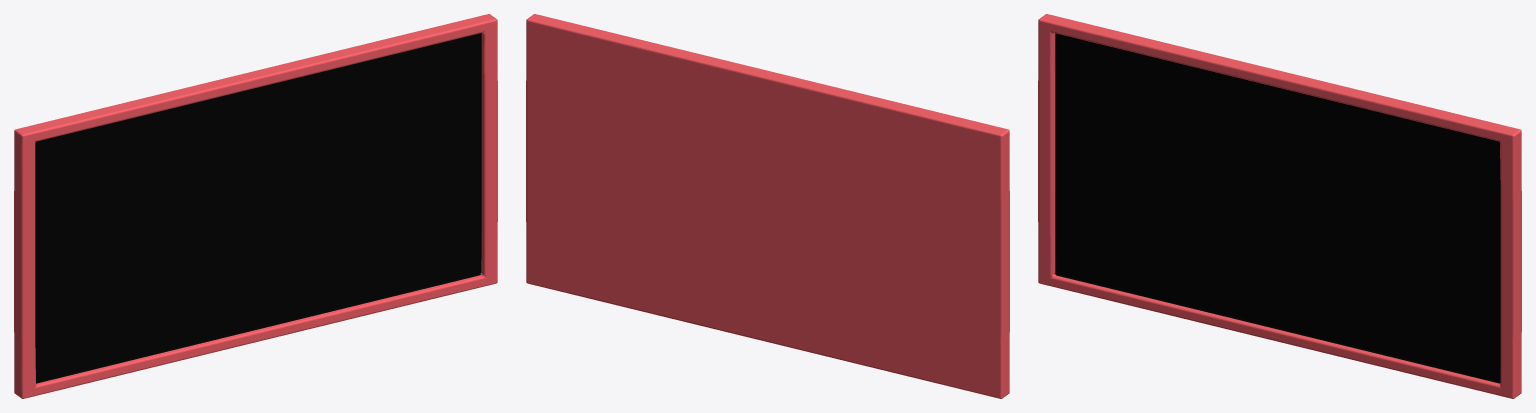
File: Camera_tablet.fbx
The picture shows the model from 3 angles, left to right: view 1: azimuth 30°, elevation 25°; view 2: azimuth 150°, elevation 25°; view 3: azimuth 330°, elevation 25°; orthographic projection.
Parts seen in each view (by area): view 1: Cube; view 2: Cube; view 3: Cube.
Boxes of the visible parts, x1=… form: Cube: x1=14, y1=14, x2=497, y2=398; Cube: x1=526, y1=14, x2=1009, y2=398; Cube: x1=1038, y1=14, x2=1521, y2=398.
Size of the model in its own units: 200 by 106 by 6.29.
